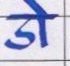o_matra: (31, 2, 48, 47)
